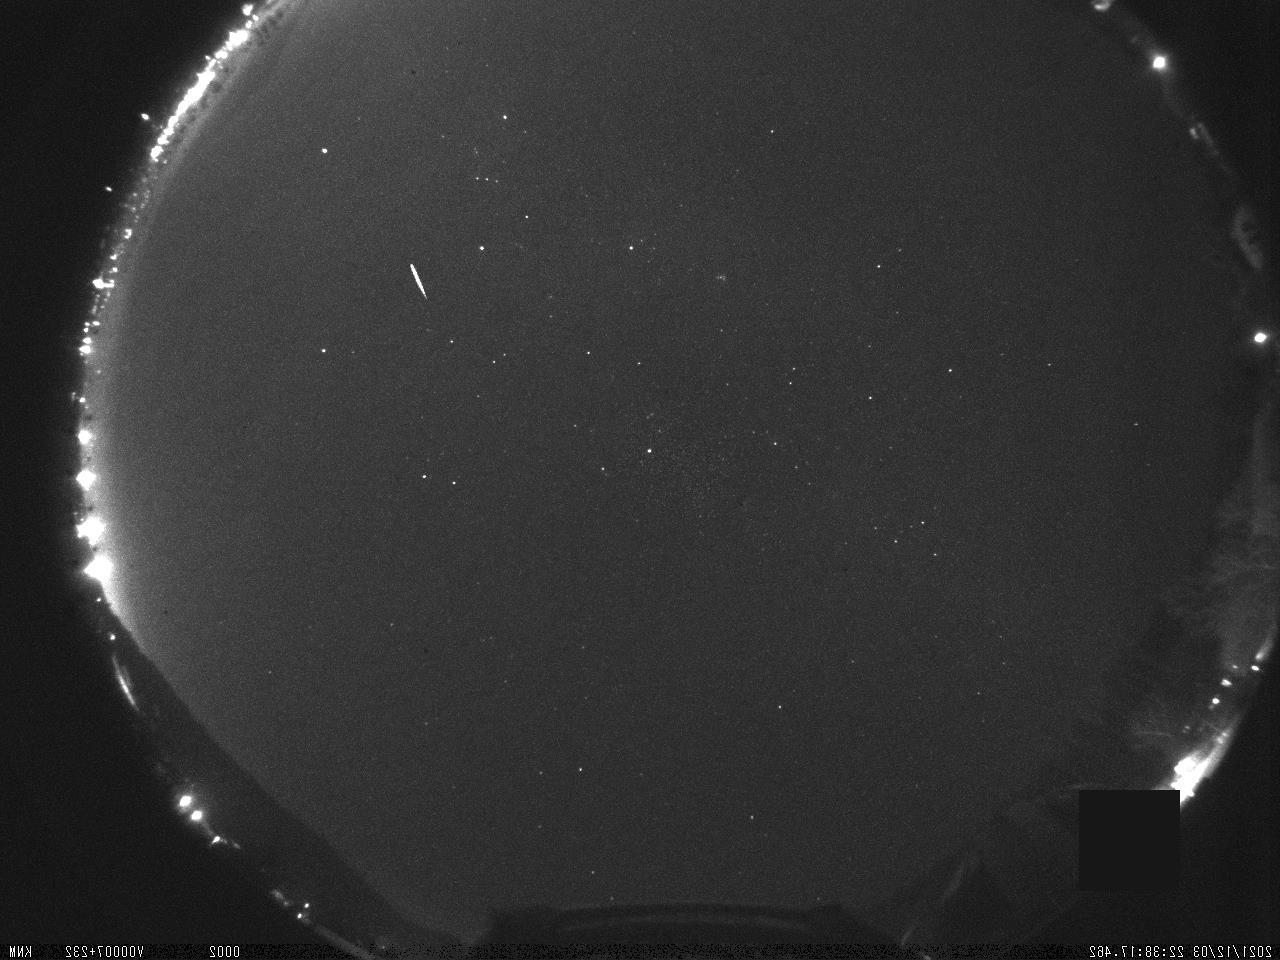meteor: (398, 249, 441, 307)
